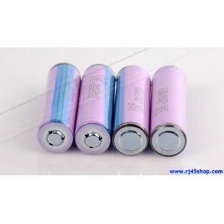battery: (34, 59, 85, 156), (72, 61, 118, 156), (108, 63, 153, 156), (146, 63, 189, 159)
